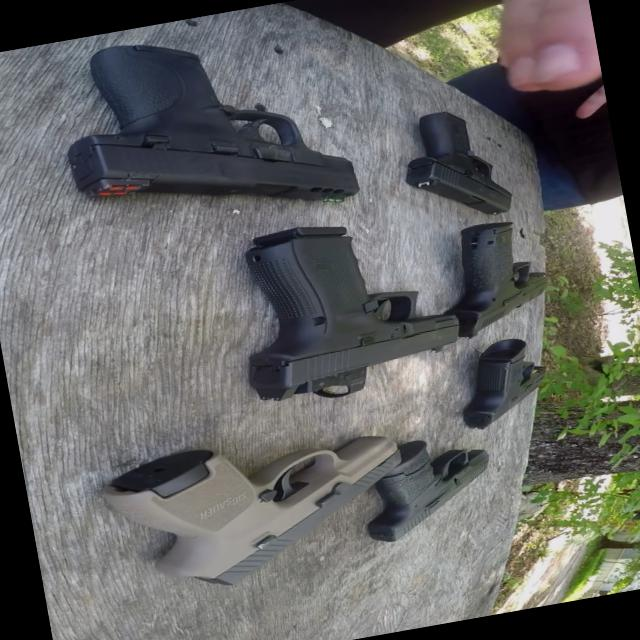handgun: (43, 4, 369, 262), (111, 422, 424, 608), (216, 202, 464, 414), (344, 418, 533, 550), (380, 81, 528, 242), (419, 207, 564, 345), (444, 323, 577, 435)
